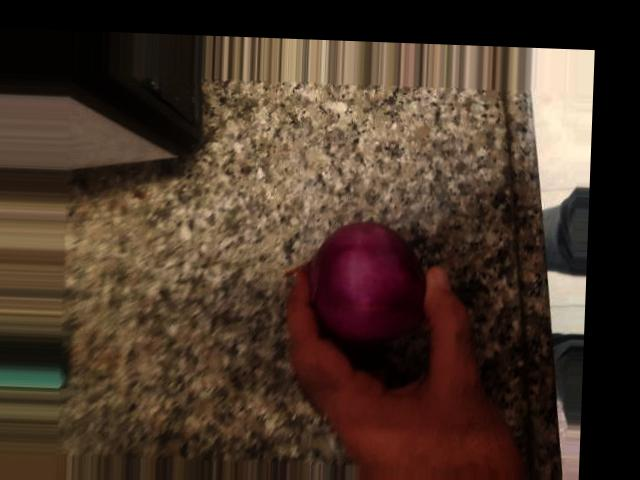onion: (206, 93, 329, 222)
